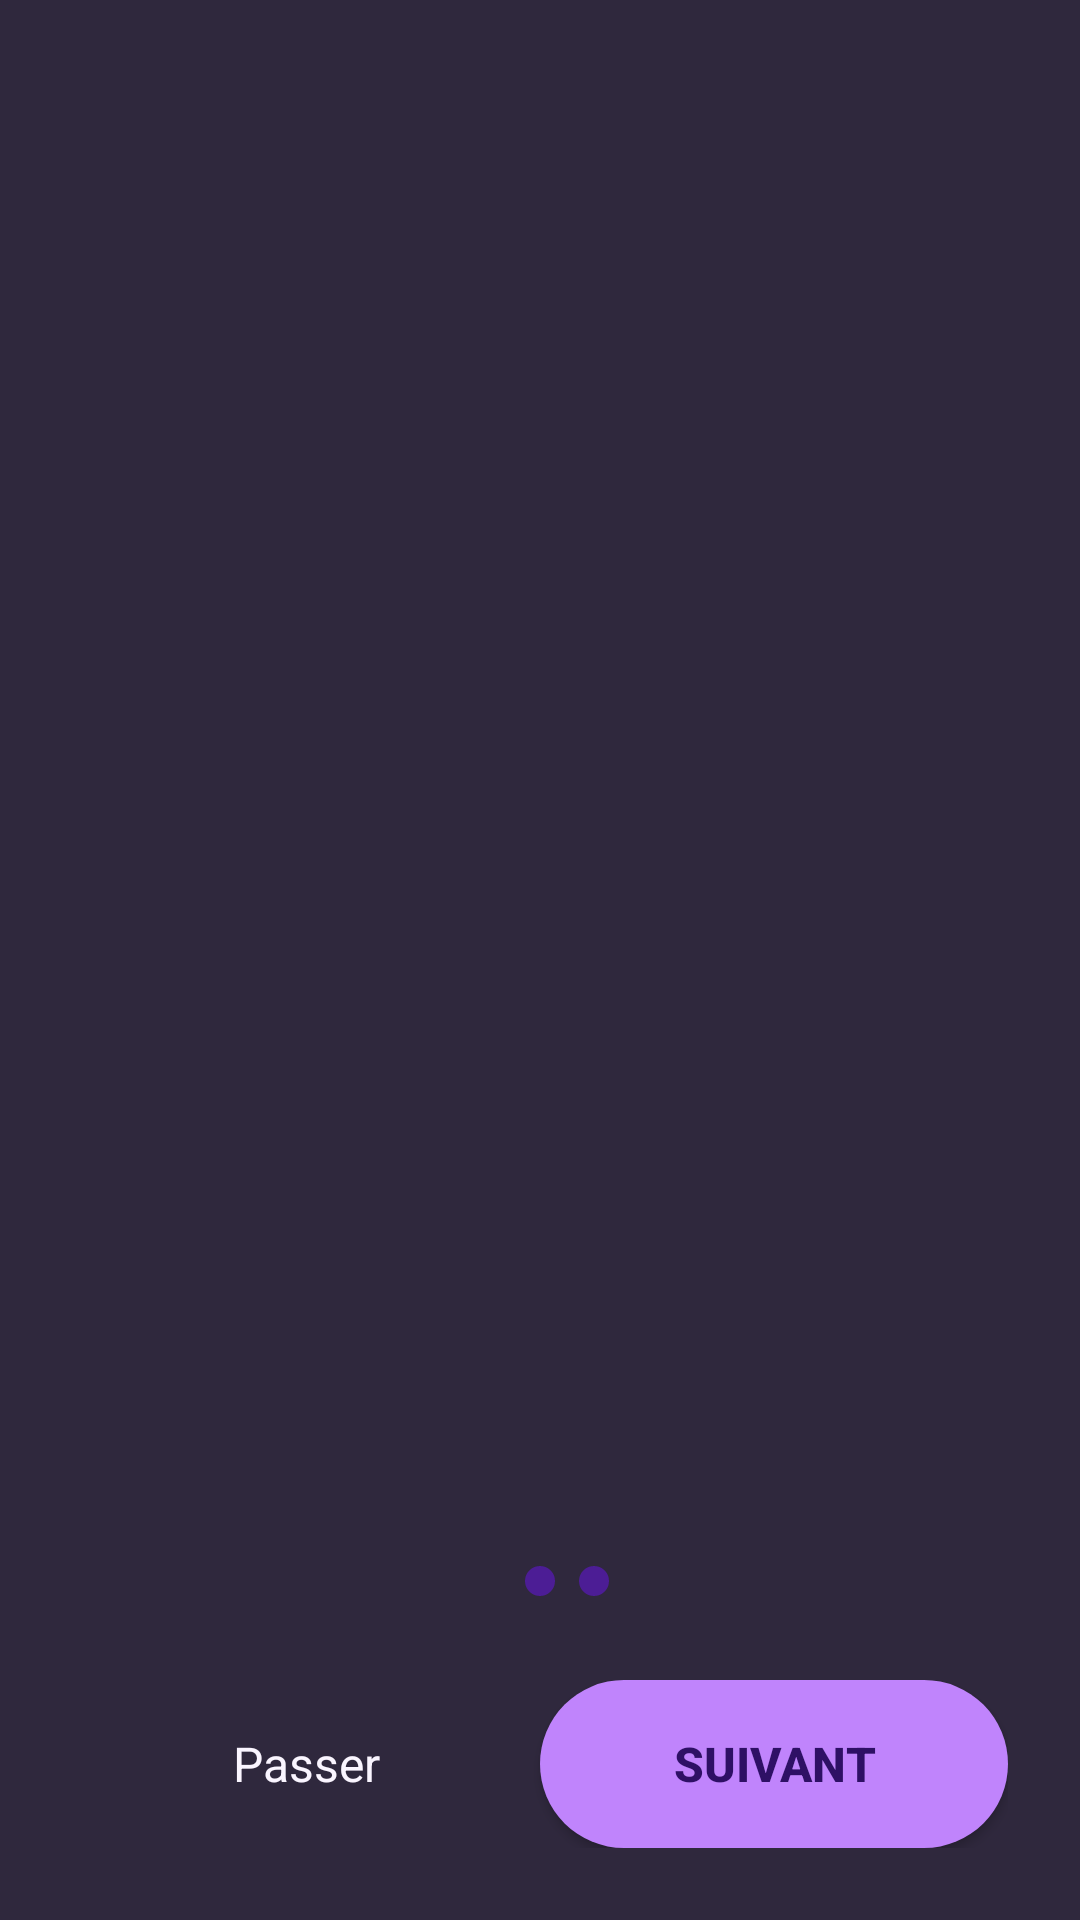

Icon click points for this 1080 × 1920 phone screenshot, format point (x, y):
dot: point (540, 1581), point (594, 1581)
